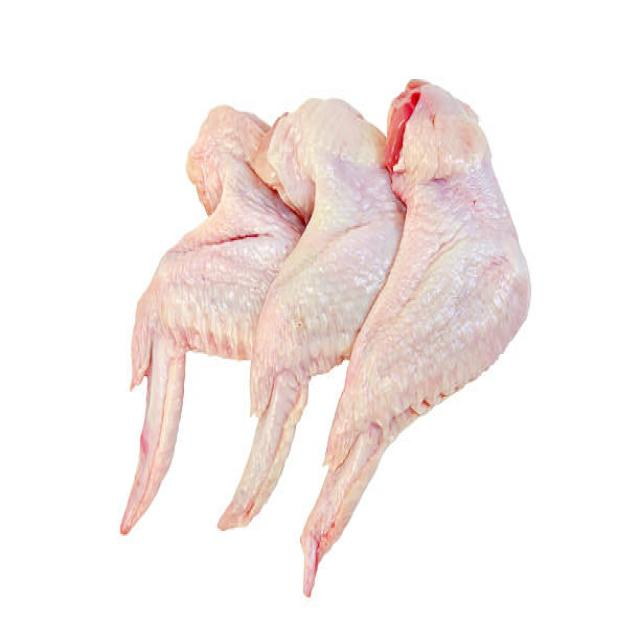chicken wing: (338, 82, 536, 578), (111, 92, 283, 530)
